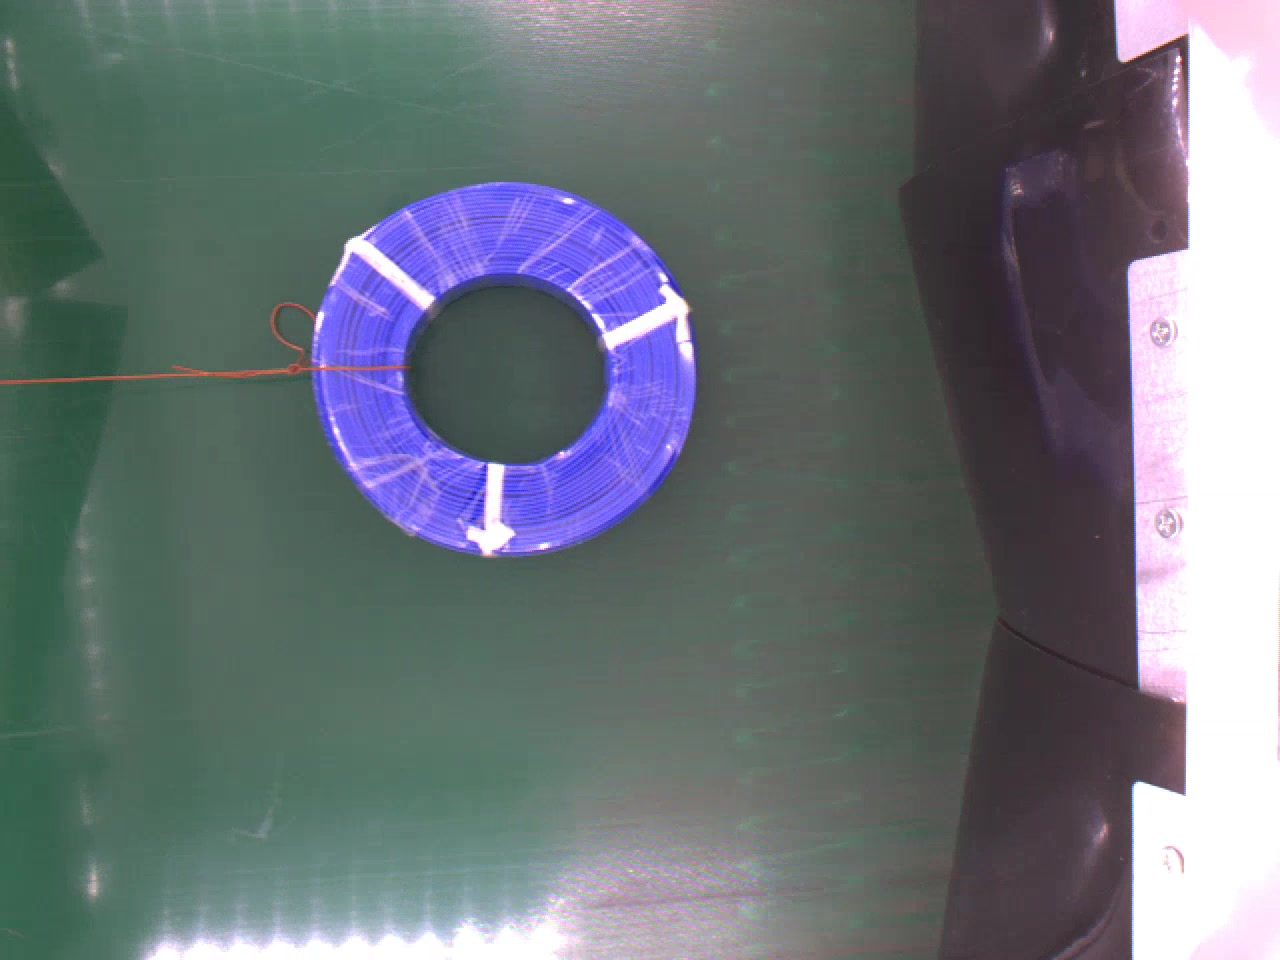blue: (309, 175, 700, 552)
